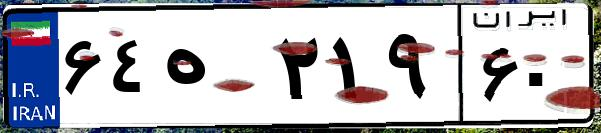0: (525, 38, 570, 115)
1: (330, 28, 385, 110)
2: (270, 28, 330, 110)
4: (110, 28, 158, 98)
6: (57, 26, 110, 100), (475, 38, 525, 113)
9: (385, 28, 445, 110)
ه: (158, 20, 270, 120)
